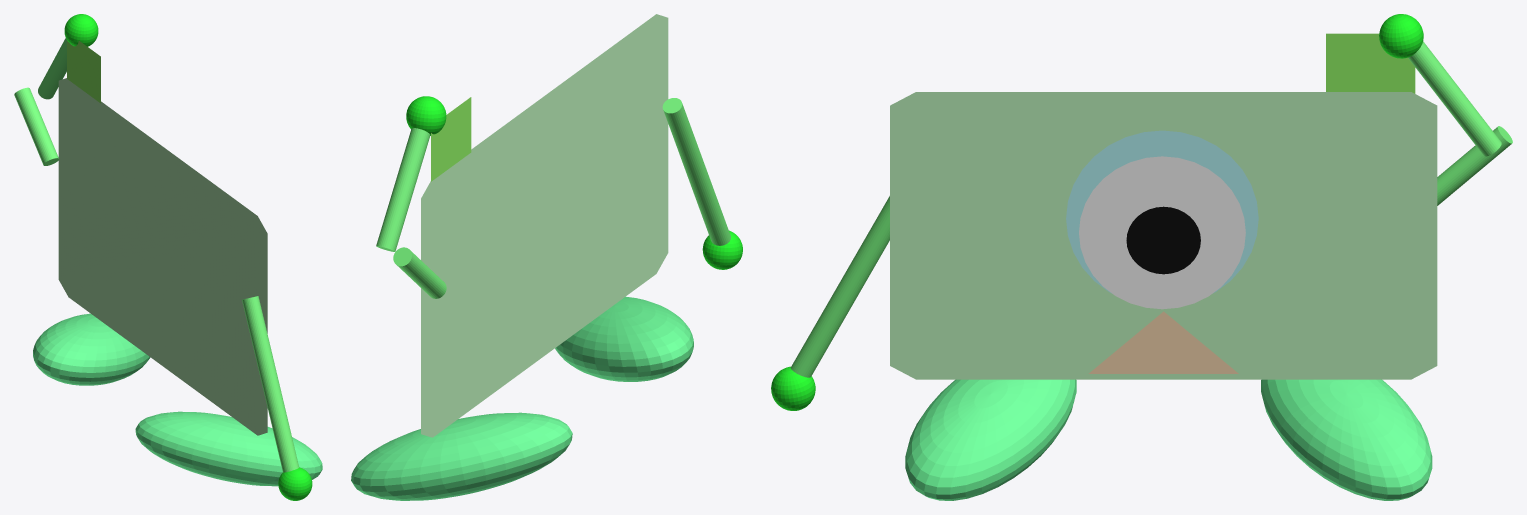
The model's file is kamera.fbx.
3 views of the same model, side by side, from view 1: azimuth 30°, elevation 25°; view 2: azimuth 150°, elevation 25°; view 3: azimuth 270°, elevation 25° (orthographic). The views are drawn at different scales.
Visible parts, largest first — view 1: karada, asi, asi1, ude, botan, ude1, te.001, te, ude2; view 2: karada, asi1, asi, ude, ude2, botan, ude1, te, te.001; view 3: karada, me2, asi, asi1, me, kuti, botan, ude, kurome, ude2, ude1, te (+1 smaller).
Part boxes in pixels (x1,y1,x2,y2): karada: [58, 78, 267, 435]; asi: [135, 411, 322, 486]; asi1: [33, 313, 150, 385]; ude: [242, 296, 299, 472]; botan: [67, 40, 100, 103]; ude1: [14, 87, 59, 165]; te.001: [278, 467, 312, 500]; te: [64, 14, 98, 46]; ude2: [38, 38, 66, 99]; karada: [421, 14, 668, 437]; asi1: [351, 412, 572, 500]; asi: [555, 296, 693, 381]; ude: [662, 98, 730, 245]; ude2: [376, 128, 430, 251]; botan: [431, 97, 471, 181]; ude1: [393, 247, 446, 298]; te: [406, 96, 446, 135]; te.001: [702, 230, 742, 269]; karada: [890, 92, 1437, 379]; me2: [1079, 156, 1245, 309]; asi: [905, 379, 1076, 500]; asi1: [1261, 379, 1432, 500]; me: [1066, 130, 1258, 293]; kuti: [1088, 311, 1238, 373]; botan: [1326, 33, 1415, 93]; ude: [790, 196, 889, 377]; kurome: [1126, 206, 1200, 274]; ude2: [1408, 41, 1501, 156]; ude1: [1437, 126, 1512, 205]; te: [1379, 14, 1423, 58].
Bounding box in the file's own units: 9.96 × 2.89 × 6.76.
